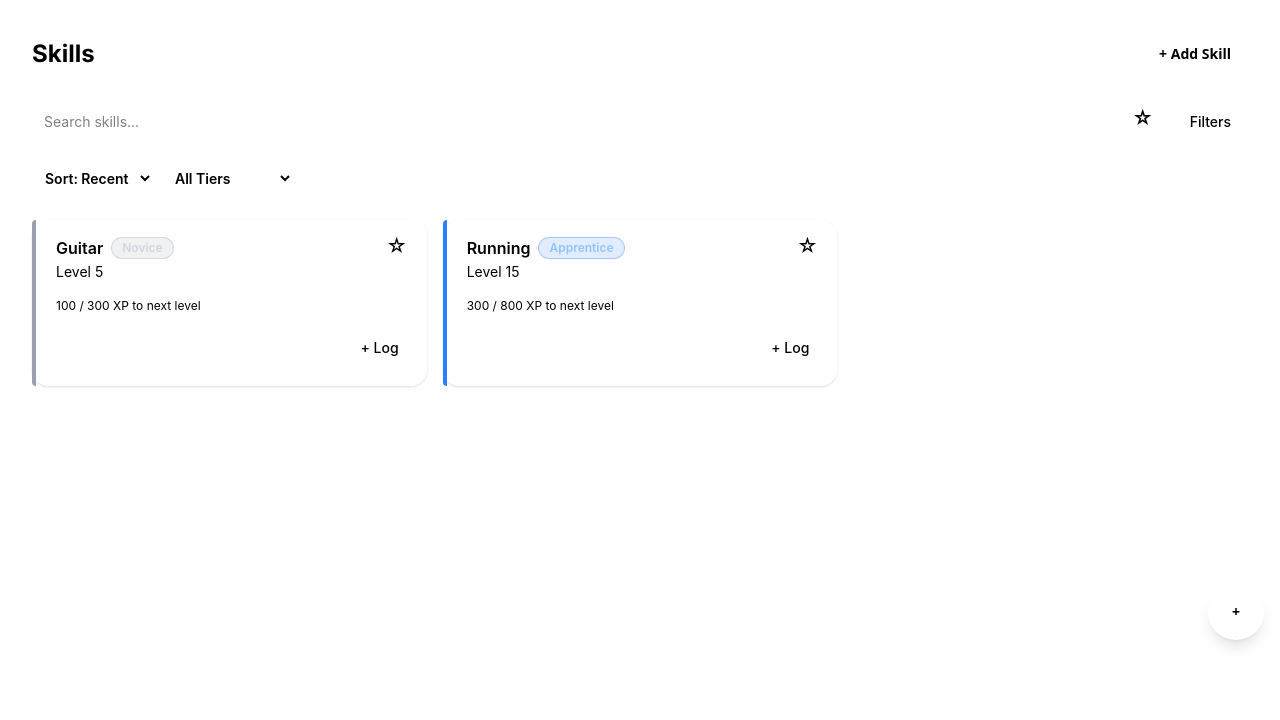
Test: tier filter shows only matching skills (AC-8)
// Filter to Apprentice — only Running should remain
Step 1. Select "Apprentice" in the dropdown named "Filter by tier" → (228,178), box [162, 158, 294, 198]
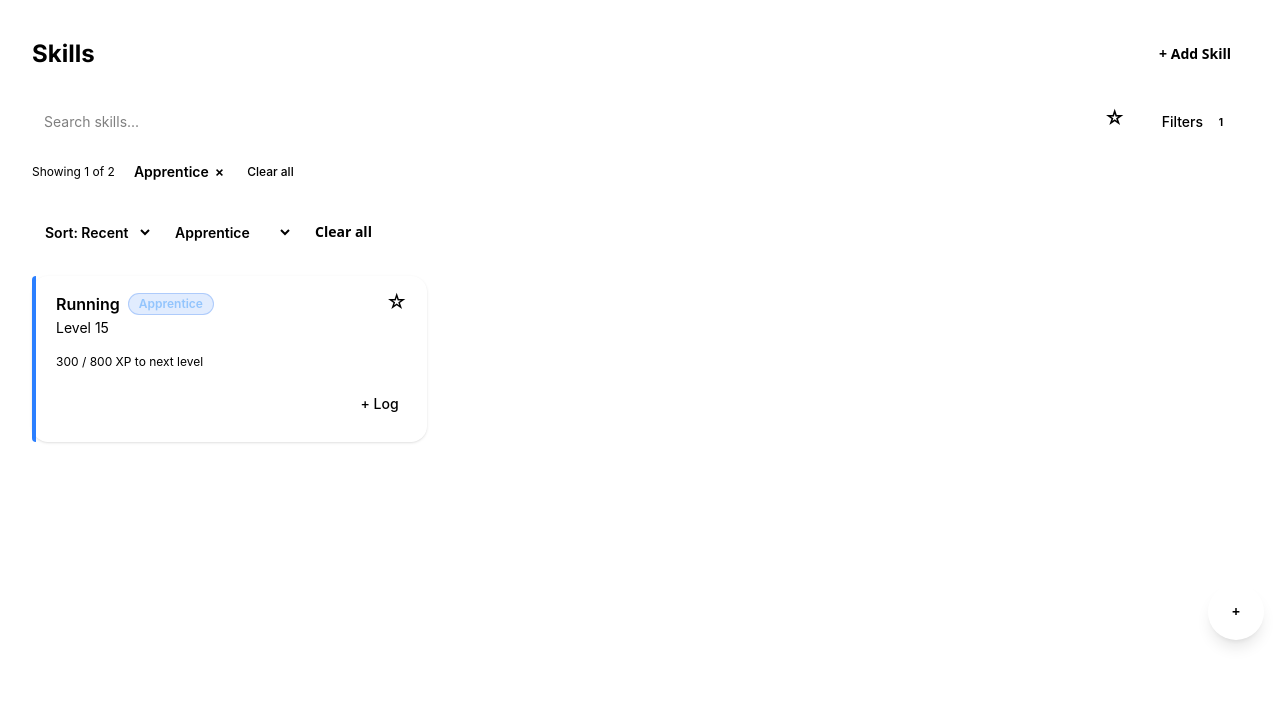
Expected: the heading "Running" is shown, [56, 292, 120, 316]
Expected: the button "Guitar" is gone
